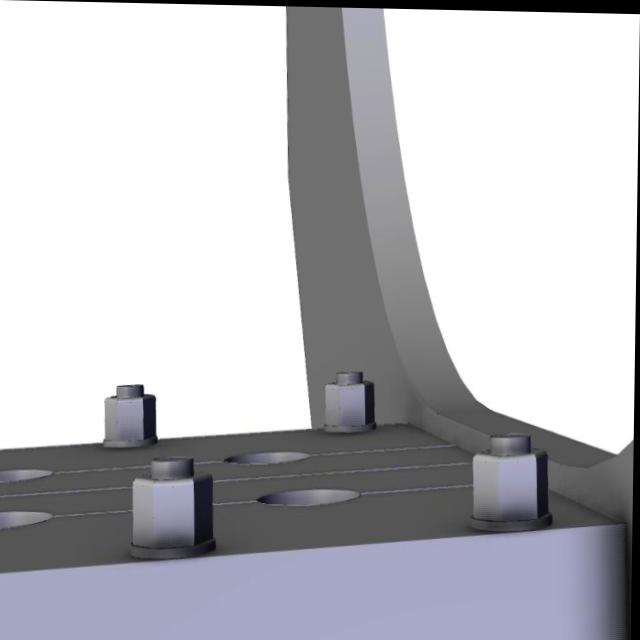Regular bolt: (474, 430, 551, 532), (135, 456, 216, 551), (107, 383, 160, 447), (326, 369, 378, 432)
